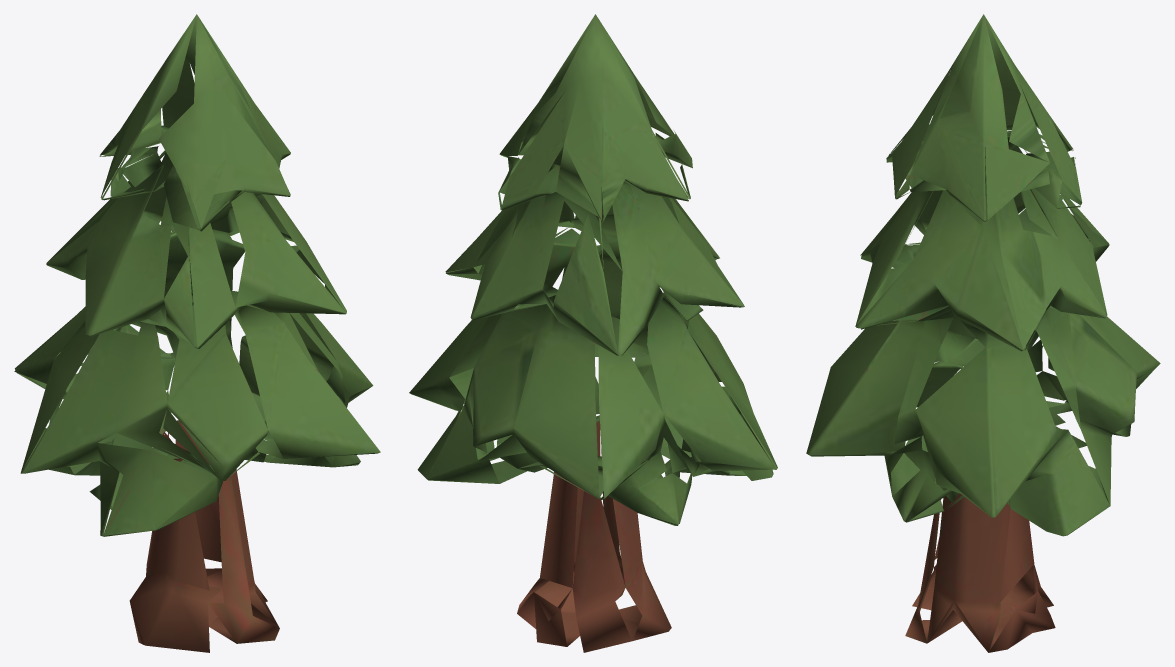
Rendered from grenade-tree-b-low.glb.
The picture shows the model from 3 angles, left to right: view 1: azimuth 30°, elevation 25°; view 2: azimuth 150°, elevation 25°; view 3: azimuth 270°, elevation 25°; orthographic projection.
Bounding box in the file's own units: 0.5903 × 0.9526 × 0.5073.
Materials: 1 (1 with a texture image).
